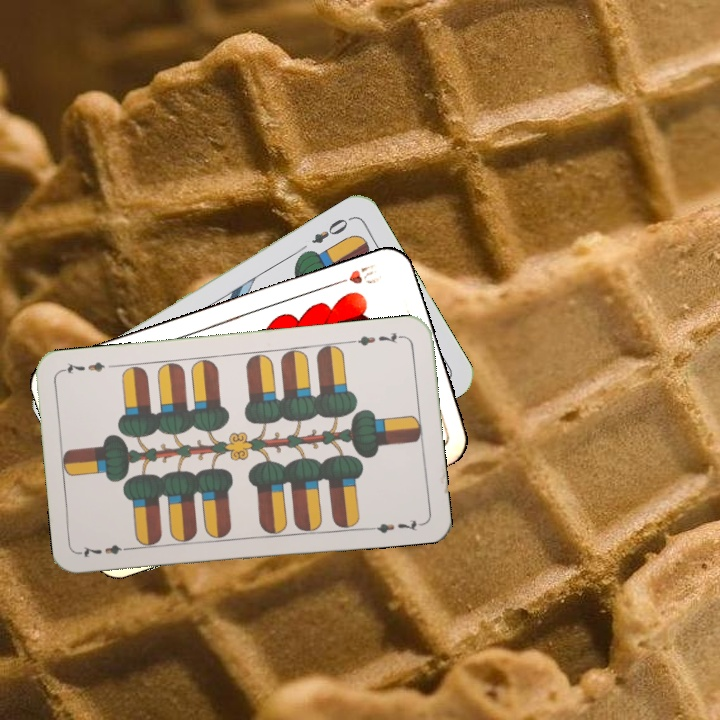E7: (348, 328, 407, 349), (77, 540, 136, 560)
EO: (307, 213, 354, 246)
H10: (328, 259, 382, 289)
